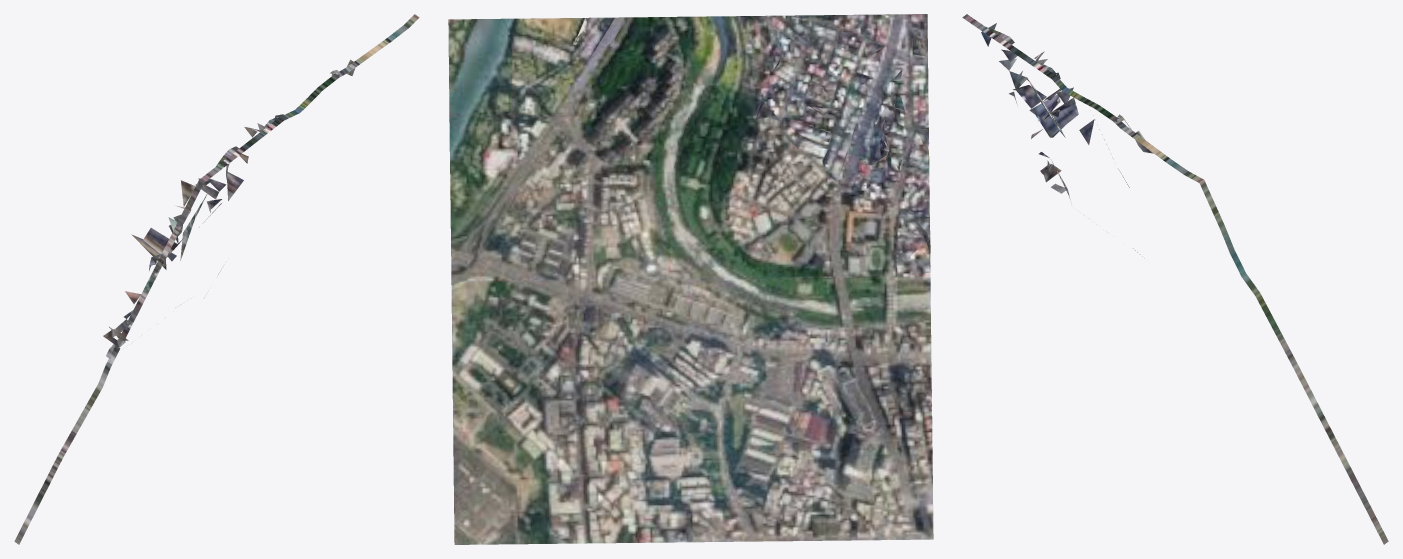
The picture shows the model from 3 angles, left to right: view 1: azimuth 30°, elevation 25°; view 2: azimuth 150°, elevation 25°; view 3: azimuth 270°, elevation 25°; orthographic projection. The views are drawn at different scales.
Size of the model in its own units: 1227 by 1120 by 1037.
1 material, 1 textured.
